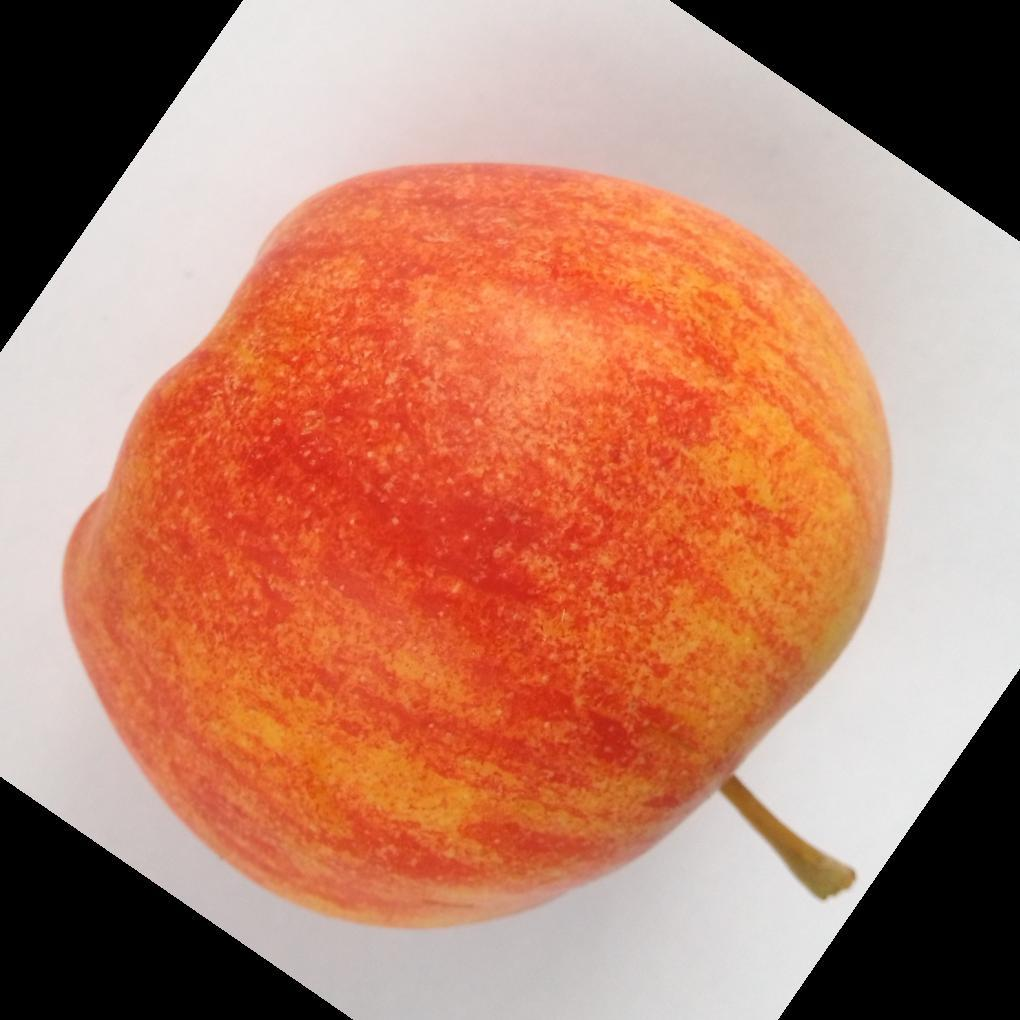FreshGuava: (58, 161, 894, 934)
